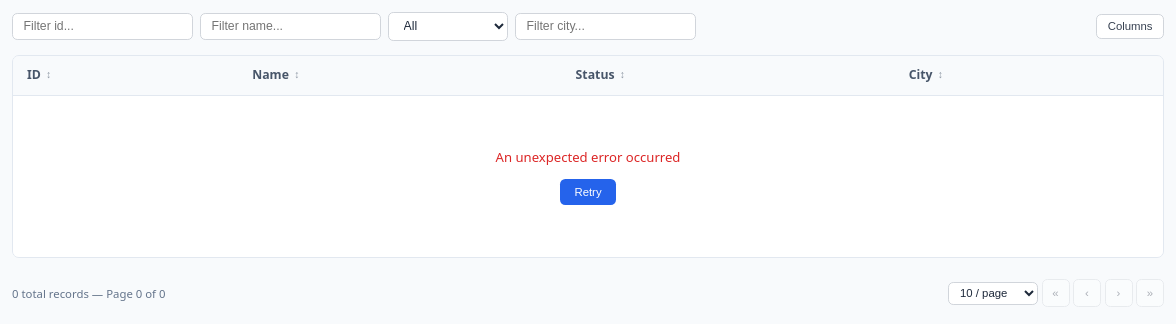
Scenario: DataTable › Empty state and error state rendering › retries fetch when Retry button is clicked after error
Note: Click retry
Click the button "Retry" at (588, 192), box [560,179,616,205]
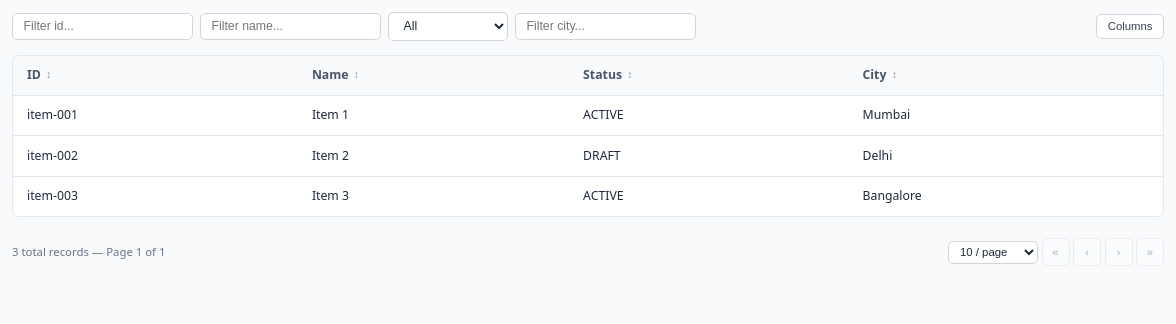
Check: the text "Item 1" is shown, box [298,96,569,136]
